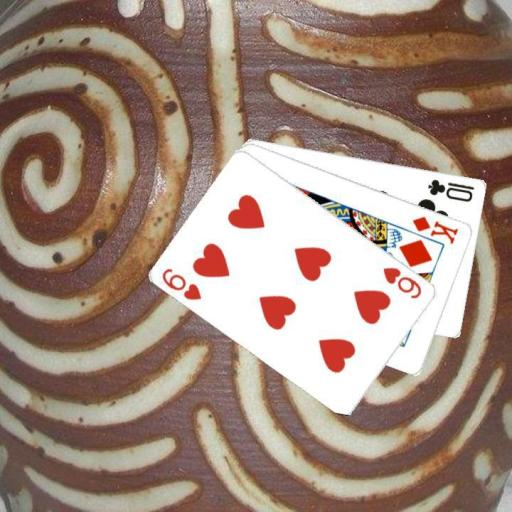card-corner: (158, 265, 204, 302), (409, 213, 460, 245), (380, 264, 424, 301), (424, 176, 476, 203)
